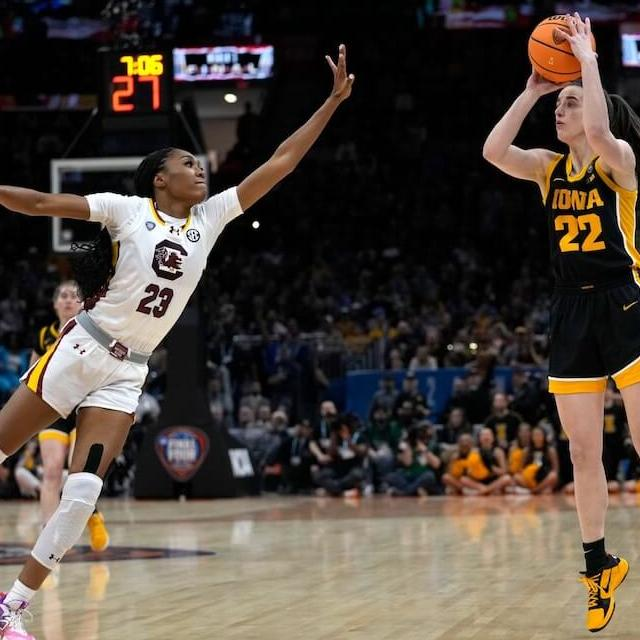basketball: (524, 16, 584, 85)
